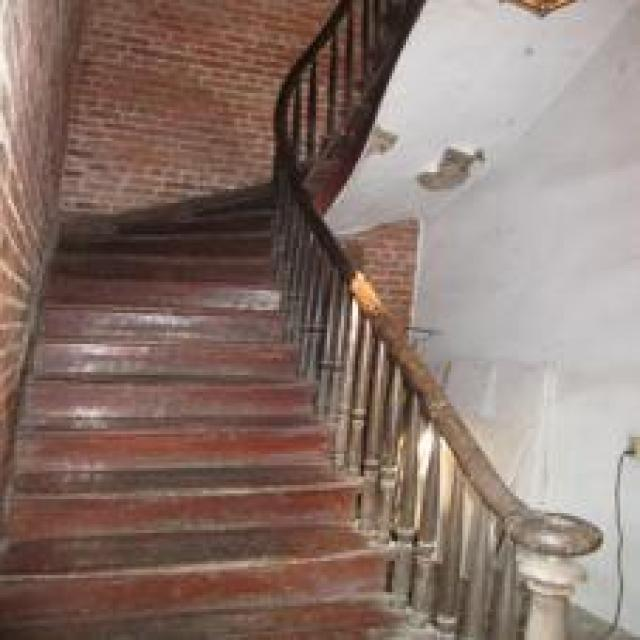upstair: (7, 385, 376, 633)
